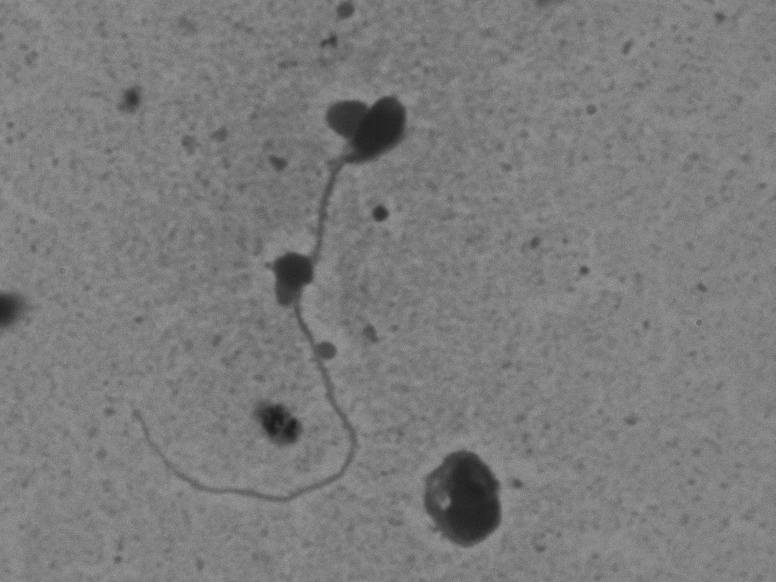Abnormal: (87, 59, 433, 530)
